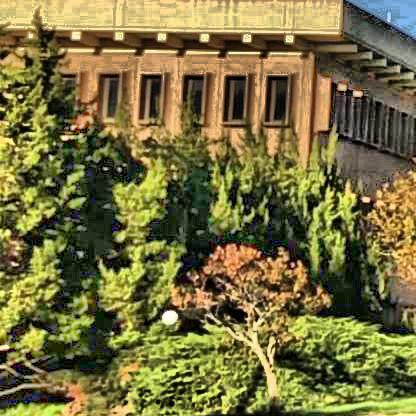golfball: (158, 305, 177, 322)
